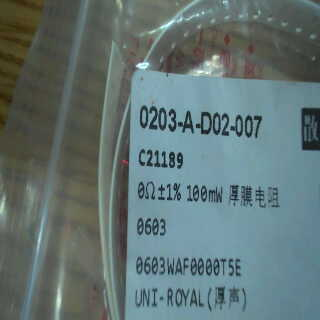0R: (134, 176, 228, 235)
